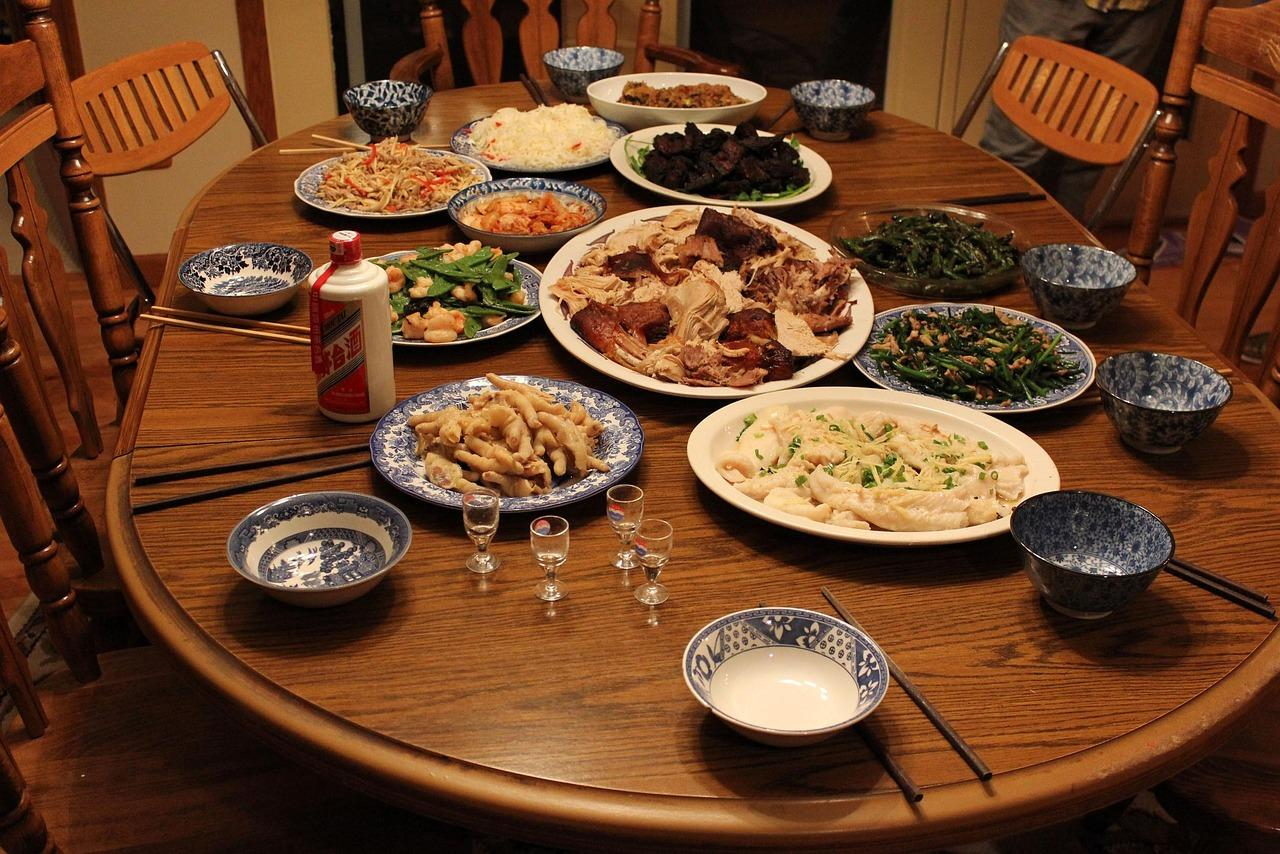Braised Crucian Carp: (546, 205, 871, 396), (700, 390, 1051, 545), (369, 375, 642, 512), (842, 304, 1095, 414), (827, 203, 1013, 299), (365, 247, 542, 346), (610, 123, 802, 205), (292, 146, 492, 219), (447, 176, 606, 255), (448, 112, 622, 174), (597, 71, 755, 129)
